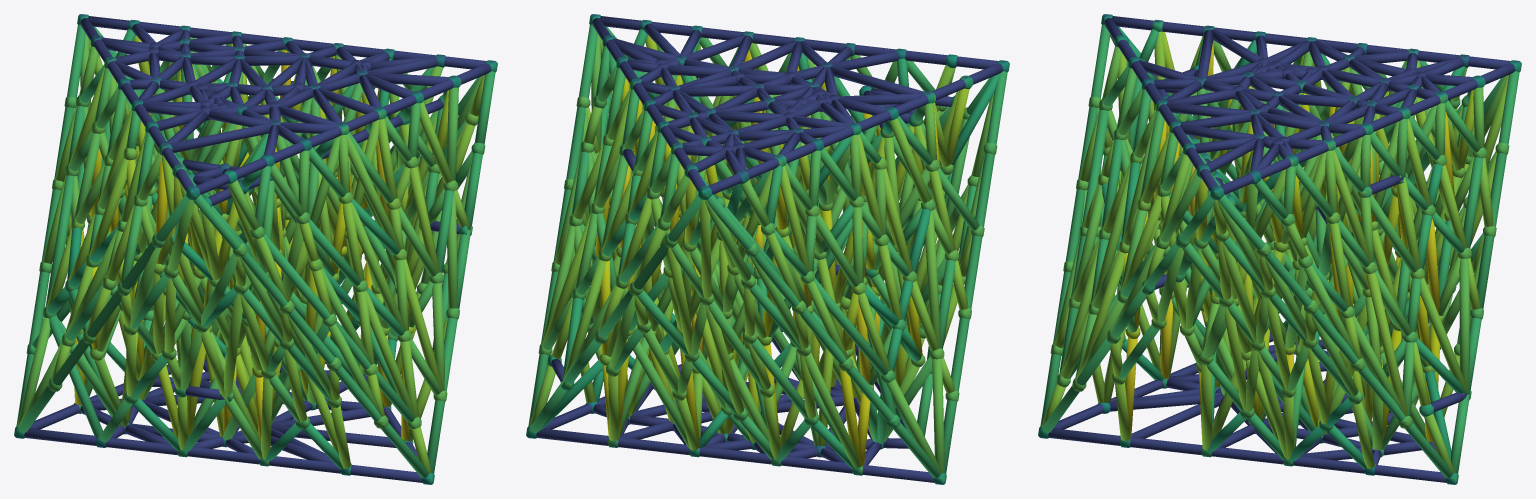
The model's file is octahedron_T5_S2.glb.
The picture shows the model from 3 angles, left to right: view 1: azimuth 30°, elevation 25°; view 2: azimuth 150°, elevation 25°; view 3: azimuth 270°, elevation 25°; orthographic projection.
Visible parts, largest first — view 1: octahedron; view 2: octahedron; view 3: octahedron.
Boxes of the visible parts, left/top/right/bottom form: octahedron: left=14, top=14, right=497, bottom=484; octahedron: left=526, top=14, right=1009, bottom=484; octahedron: left=1038, top=14, right=1521, bottom=484.
Size of the model in its own units: 86.14 by 63.15 by 86.14.
